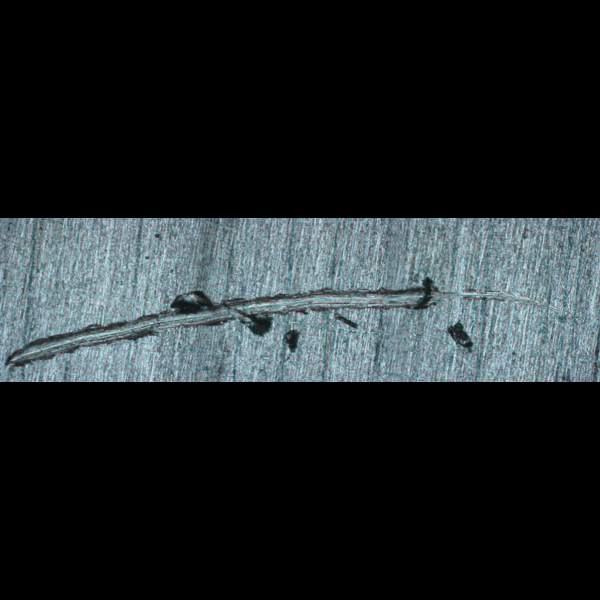d: (3, 273, 584, 372)
